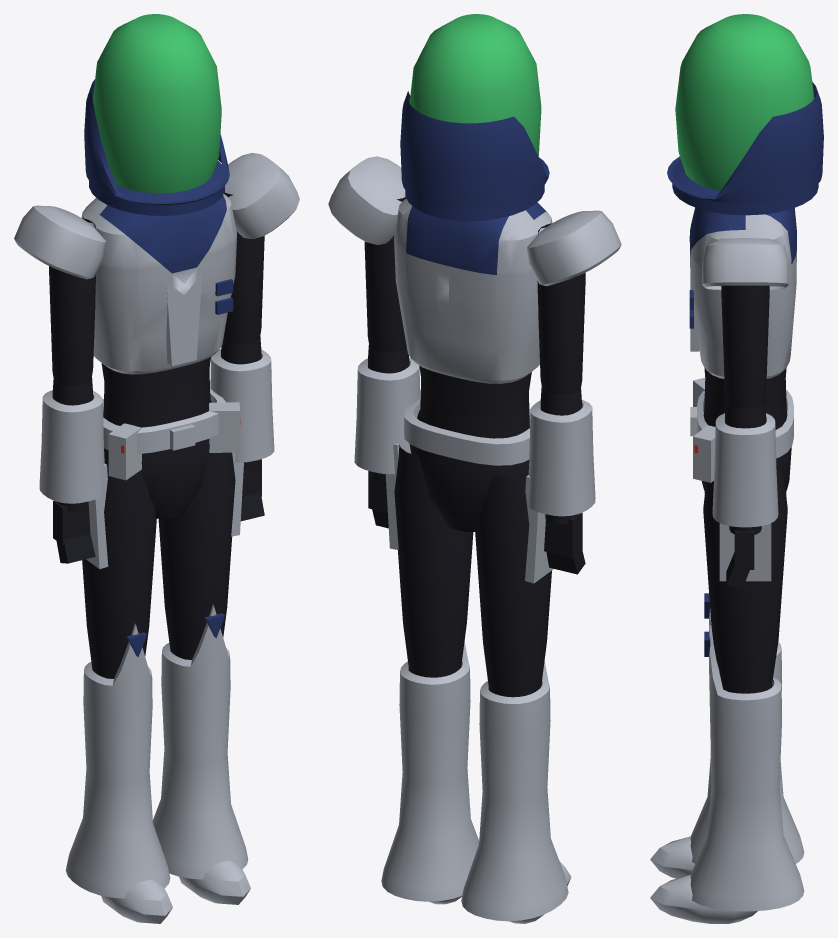
Rendered from trooper.glb.
3 views of the same model, side by side, from view 1: azimuth 30°, elevation 25°; view 2: azimuth 150°, elevation 25°; view 3: azimuth 270°, elevation 25° (orthographic). The views are drawn at different scales.
Parts seen in each view (by area): view 1: dome, vest, boot_shaftR, boot_shaftL, suit_thighL, suit_thighR, forearm_guardR, suit_torso, suit_armR, forearm_guardL, shoulder_padR, shoulder_padL (+16 smaller); view 2: vest, boot_shaftR, boot_shaftL, suit_thighL, suit_thighR, dome, collar_hood, forearm_guardR, suit_torso, forearm_guardL, suit_armR, shoulder_padL (+12 smaller); view 3: boot_shaftL, dome, suit_thighL, vest, collar_hood, forearm_guardL, suit_armL, shoulder_padL, collar_ring, shoeL, boot_shaftR, suit_torso (+8 smaller).
Boxes of the visible parts, x1,y1,x2,y2 form: dome: (93, 14, 221, 193); vest: (81, 194, 236, 374); boot_shaftR: (65, 623, 170, 898); boot_shaftL: (153, 604, 248, 879); suit_thighL: (158, 452, 235, 659); suit_thighR: (82, 464, 156, 678); forearm_guardR: (39, 390, 104, 503); suit_torso: (101, 357, 210, 427); suit_armR: (49, 218, 95, 385); forearm_guardL: (210, 349, 274, 462); shoulder_padR: (14, 205, 106, 279); shoulder_padL: (225, 152, 299, 238); vest: (394, 198, 552, 383); boot_shaftR: (461, 661, 568, 921); boot_shaftL: (381, 642, 479, 901); suit_thighL: (394, 444, 473, 676); suit_thighR: (475, 474, 551, 695); dome: (409, 14, 541, 155); collar_hood: (400, 91, 549, 210); forearm_guardR: (528, 400, 595, 516); suit_torso: (419, 365, 531, 437); forearm_guardL: (354, 357, 420, 474); suit_armR: (537, 223, 585, 394); shoulder_padL: (328, 156, 405, 244); boot_shaftL: (690, 625, 804, 911); dome: (675, 14, 814, 190); suit_thighL: (703, 462, 787, 693); vest: (689, 207, 796, 378); collar_hood: (667, 82, 823, 204); forearm_guardL: (712, 413, 778, 527); suit_armL: (721, 285, 769, 408); shoulder_padL: (702, 238, 788, 289); collar_ring: (672, 159, 818, 215); shoeL: (650, 874, 757, 923); boot_shaftR: (690, 609, 804, 863); suit_torso: (704, 368, 786, 426).
Bounding box in the file's own units: 0.5941 × 1.87 × 0.337.
